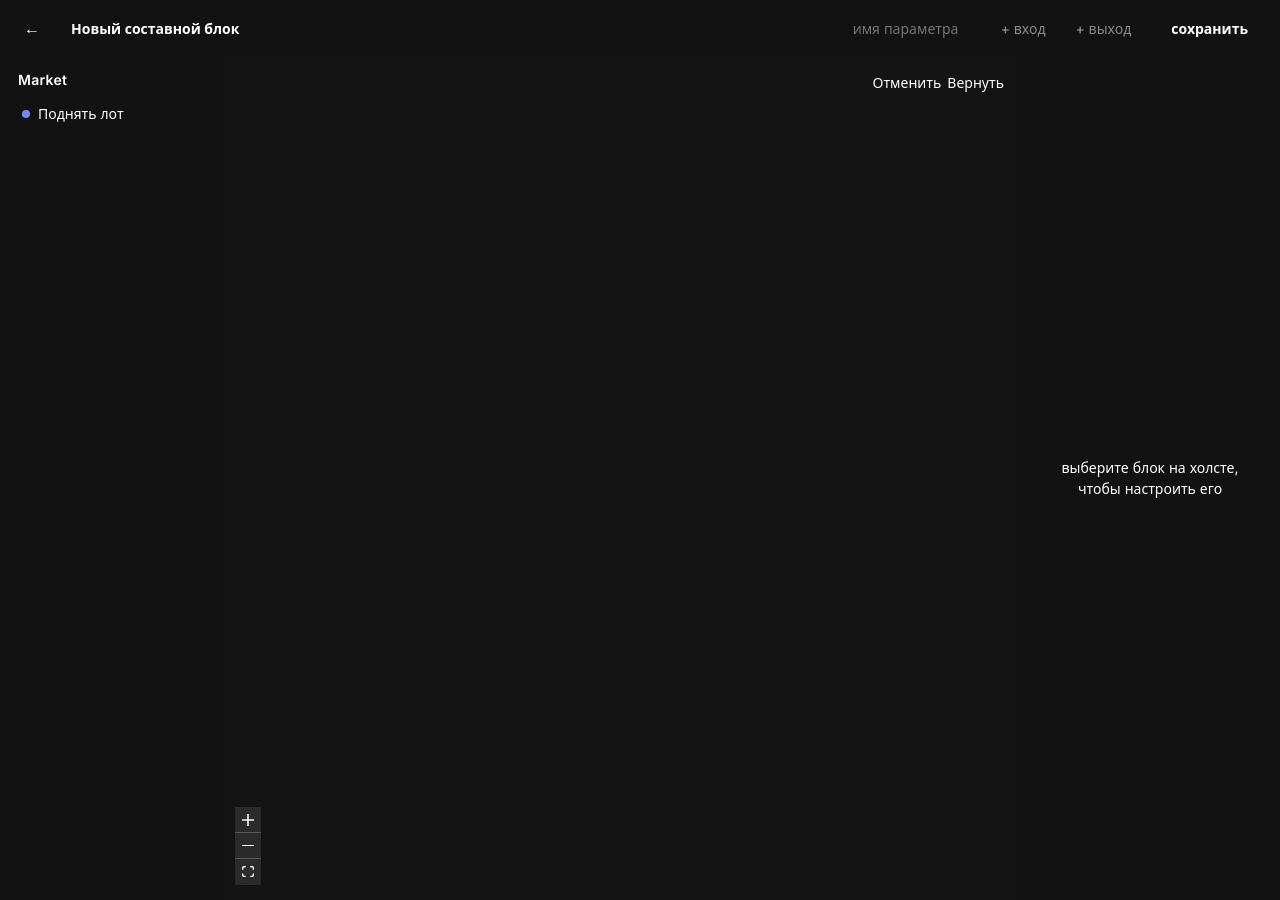
it: AuthoringMode › blocks save with no internal nodes on a fresh composite
Click the button "сохранить" at {"x": 1210, "y": 28}, box [1155, 11, 1264, 45]
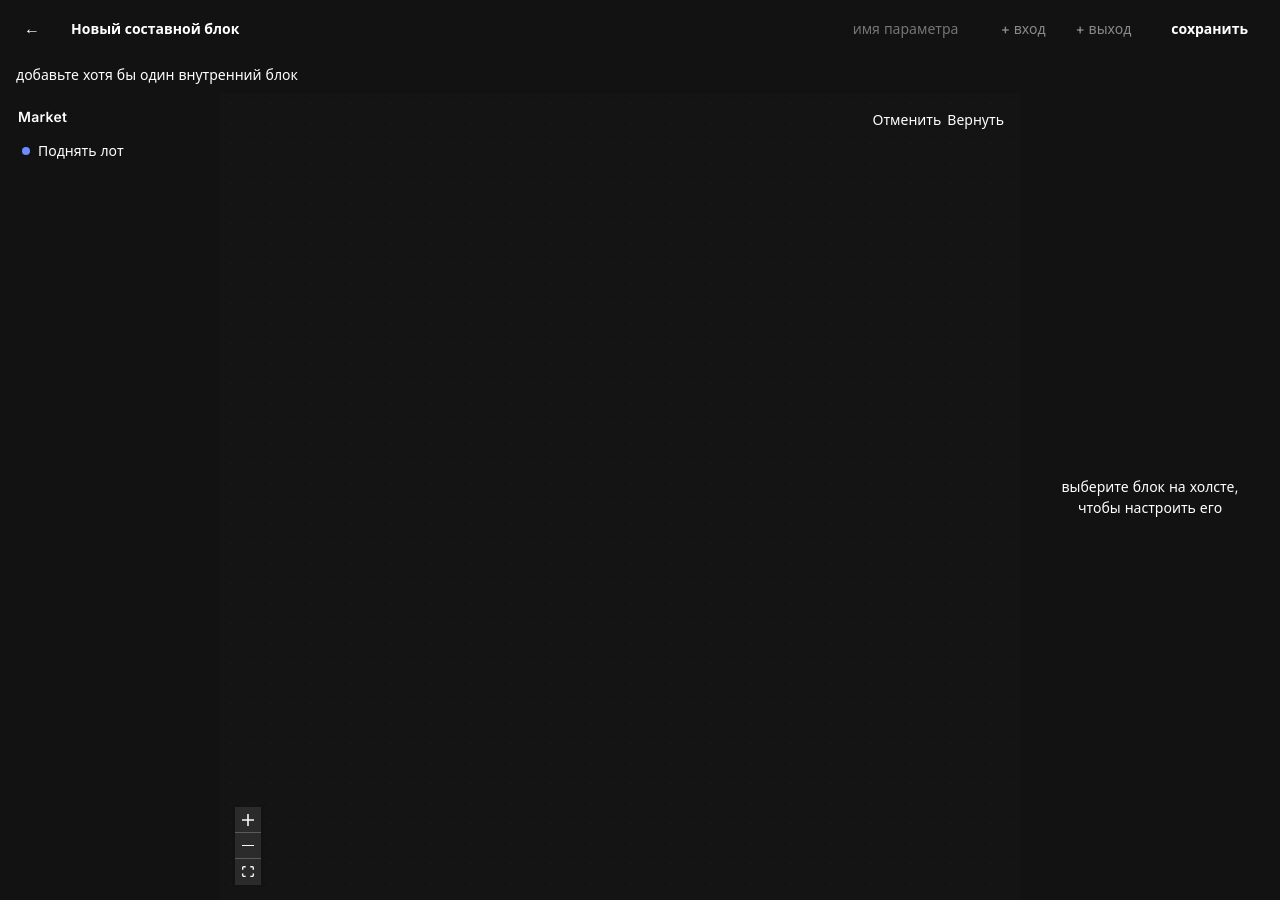
Result: the text "добавьте хотя бы один внутренний блок" is shown at [16, 66, 298, 83]
